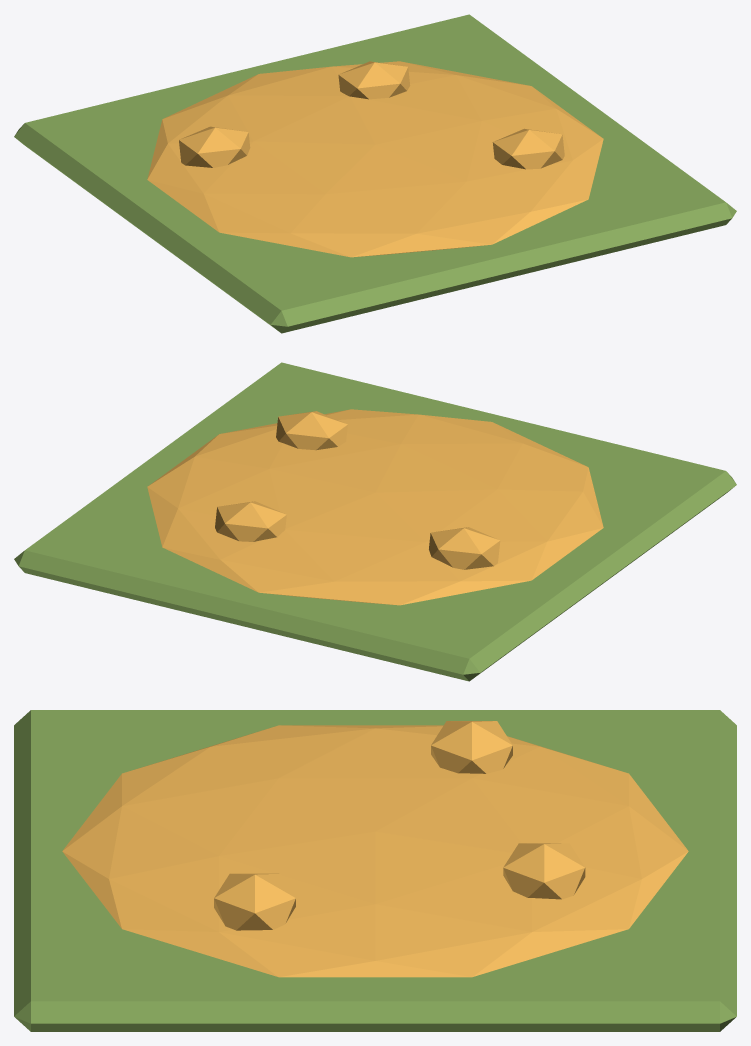
File: CC_StickyTrap.fbx
The picture shows the model from 3 angles, top to bottom: view 1: azimuth 30°, elevation 25°; view 2: azimuth 150°, elevation 25°; view 3: azimuth 270°, elevation 25°; orthographic projection. The views are drawn at different scales.
Visible parts, largest first — view 1: Resin pool, Leaf tray, Resin glob, Resin glob.002, Resin glob.001; view 2: Resin pool, Leaf tray, Resin glob, Resin glob.001, Resin glob.002; view 3: Resin pool, Leaf tray, Resin glob.002, Resin glob.001, Resin glob.
Boxes of the visible parts, x1,y1,x2,y2 form: Resin pool: [147, 61, 603, 257]; Leaf tray: [14, 14, 736, 333]; Resin glob: [179, 126, 250, 167]; Resin glob.002: [492, 128, 564, 169]; Resin glob.001: [338, 61, 410, 99]; Resin pool: [147, 409, 603, 605]; Leaf tray: [14, 362, 736, 681]; Resin glob: [429, 527, 500, 569]; Resin glob.001: [215, 501, 286, 541]; Resin glob.002: [276, 411, 347, 450]; Resin pool: [62, 725, 688, 977]; Leaf tray: [14, 710, 736, 1031]; Resin glob.002: [214, 873, 295, 930]; Resin glob.001: [503, 843, 585, 899]; Resin glob: [431, 721, 512, 773].
Size of the model in its own units: 1.5 by 0.19 by 1.5.
